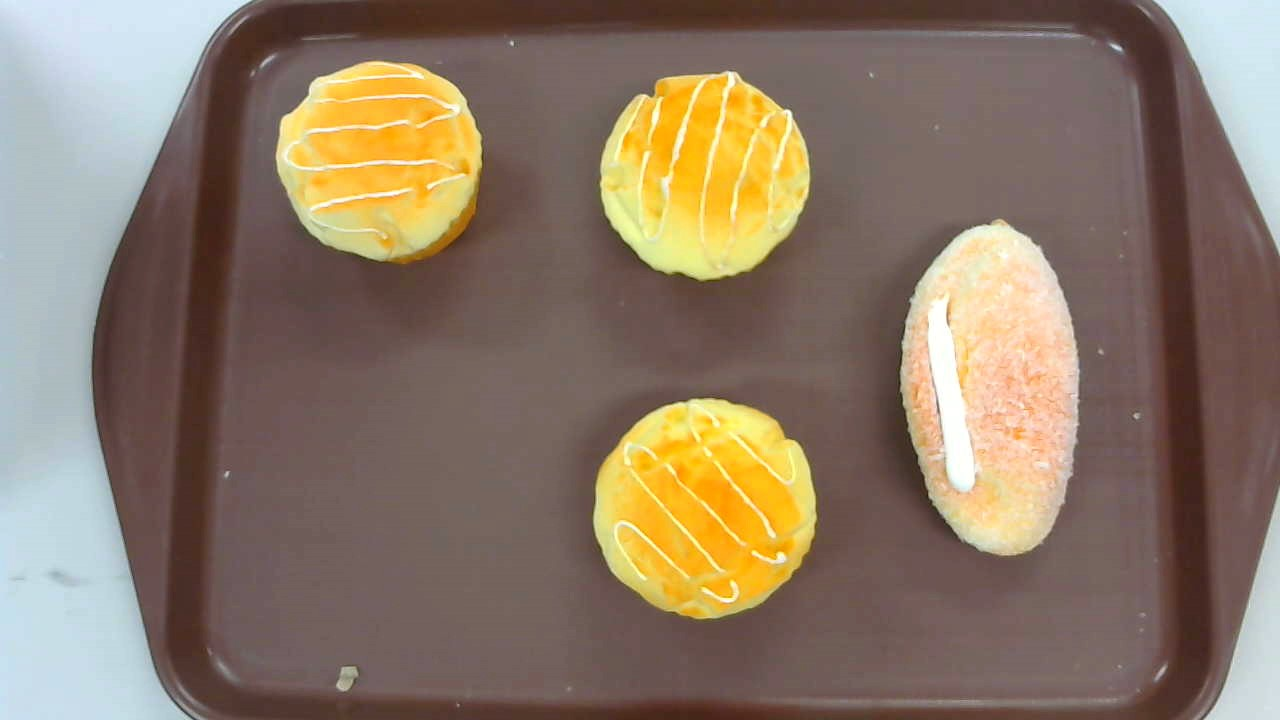coconut: (899, 219, 1080, 558)
cupcake: (592, 397, 817, 622), (599, 67, 810, 281), (274, 61, 484, 266)
